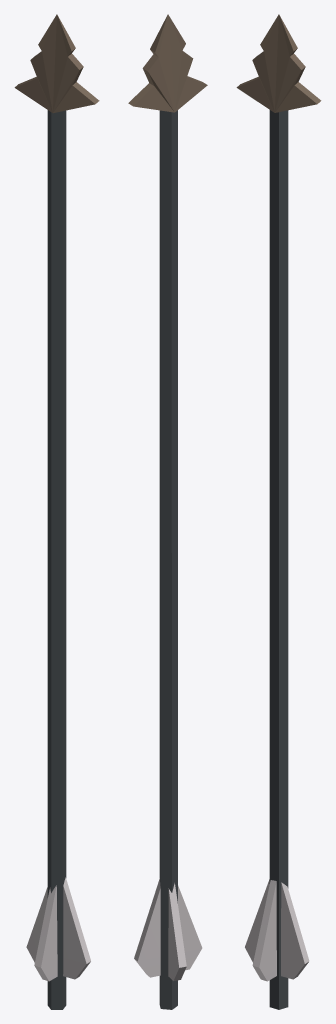
Rendered from _arrow_c_3.glb.
The picture shows the model from 3 angles, left to right: view 1: azimuth 90°, elevation 25°; view 2: azimuth 150°, elevation 25°; view 3: azimuth 270°, elevation 25°; orthographic projection.
Visible parts, largest first — view 1: arrow_c_3; view 2: arrow_c_3; view 3: arrow_c_3.
Part boxes in pixels (left/top/right/bottom): arrow_c_3: left=14, top=14, right=99, bottom=1009; arrow_c_3: left=128, top=14, right=207, bottom=1009; arrow_c_3: left=236, top=14, right=321, bottom=1009.
Bounding box in the file's own units: 1112 × 19182 × 1492.
Materials: 1 (1 with a texture image).
